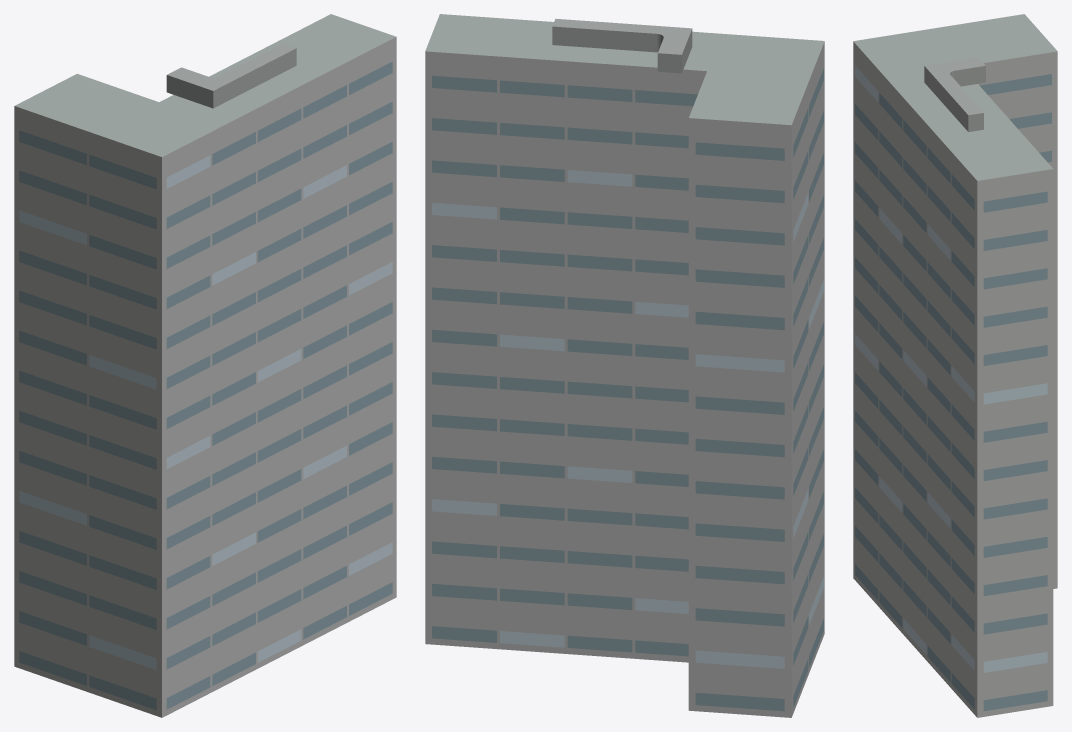
File: fallback-songpa-helio-city-206.glb
3 renders of one model, left to right at view 1: azimuth 30°, elevation 25°; view 2: azimuth 150°, elevation 25°; view 3: azimuth 270°, elevation 25°, orthographic. The views are drawn at different scales.
Parts seen in each view (by area): view 1: fallback-songpa-helio-city-206; view 2: fallback-songpa-helio-city-206; view 3: fallback-songpa-helio-city-206.
Part boxes in pixels (x1=…): fallback-songpa-helio-city-206: x1=14, y1=14, x2=396, y2=717; fallback-songpa-helio-city-206: x1=425, y1=14, x2=824, y2=717; fallback-songpa-helio-city-206: x1=853, y1=14, x2=1057, y2=717.
Size of the model in its own units: 51.1 by 79 by 26.46.
